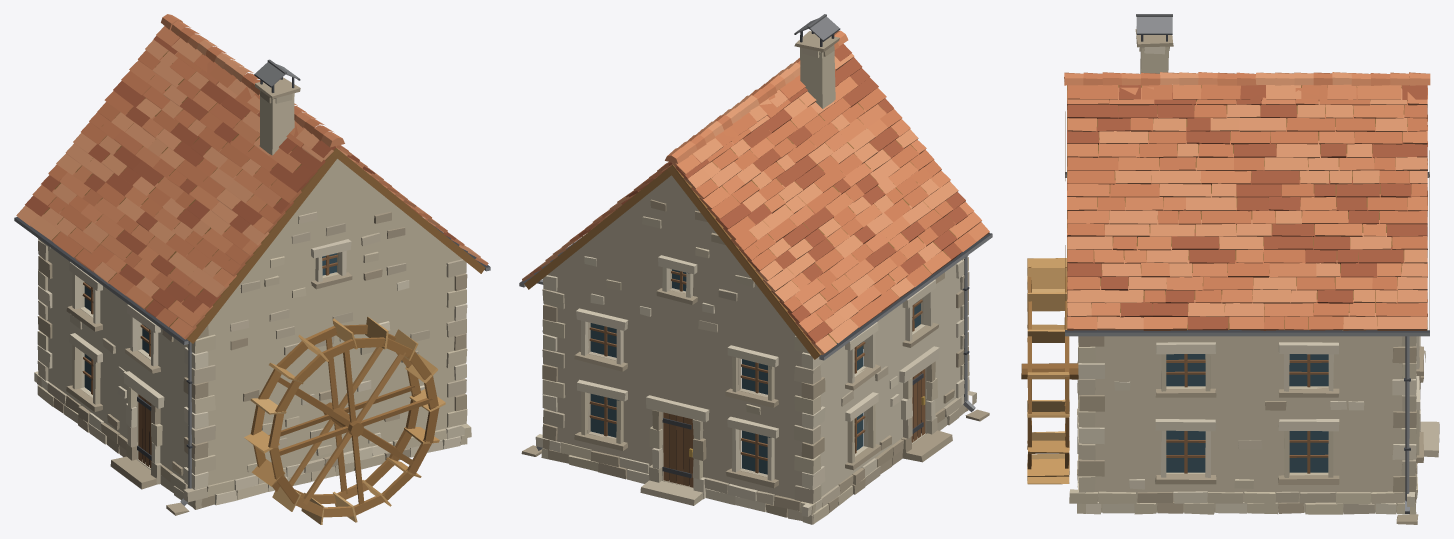
File: moulin.glb
3 views of the same model, side by side, from view 1: azimuth 30°, elevation 25°; view 2: azimuth 150°, elevation 25°; view 3: azimuth 270°, elevation 25° (orthographic). The views are drawn at different scales.
Visible parts, largest first — view 1: moulin; view 2: moulin; view 3: moulin.
Boxes of the visible parts, left/top/right/bottom form: moulin: left=14, top=14, right=490, bottom=524; moulin: left=519, top=14, right=992, bottom=524; moulin: left=1021, top=14, right=1439, bottom=524.
Size of the model in its own units: 9.37 by 11.98 by 10.09.
